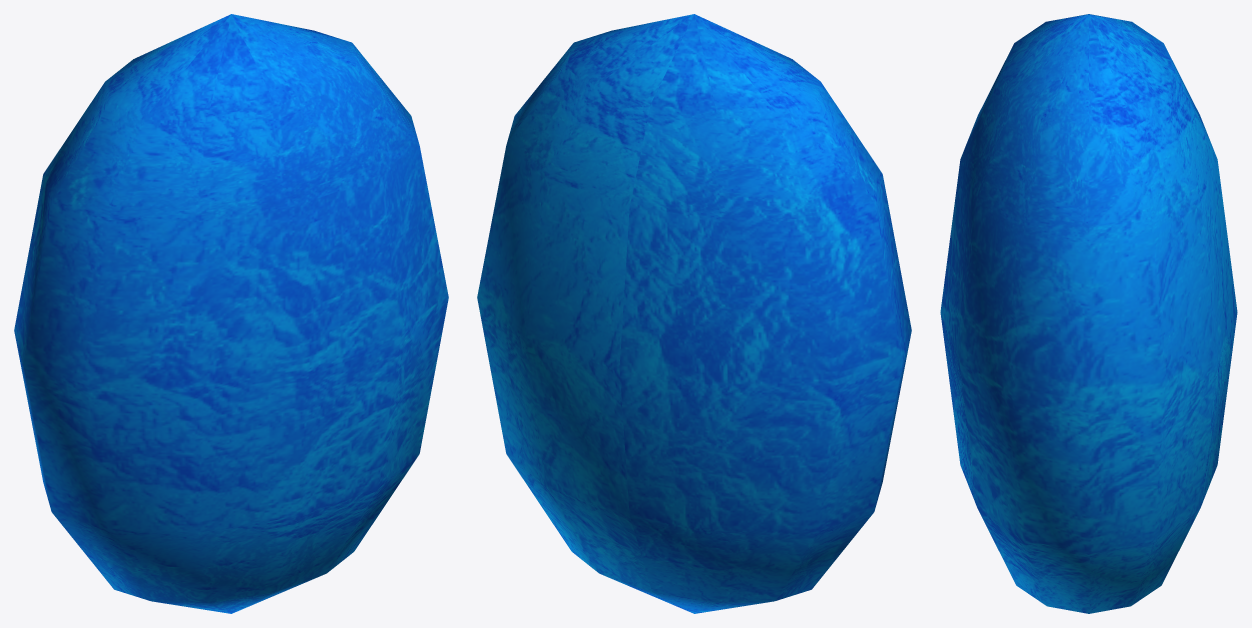
Rendered from candy_freez.FBX.
3 renders of one model, left to right at view 1: azimuth 30°, elevation 25°; view 2: azimuth 150°, elevation 25°; view 3: azimuth 270°, elevation 25°, orthographic.
Parts seen in each view (by area): view 1: candy_bomb; view 2: candy_bomb; view 3: candy_bomb.
Boxes of the visible parts, x1,y1,x2,y2 form: candy_bomb: [14, 14, 448, 613]; candy_bomb: [477, 14, 911, 613]; candy_bomb: [940, 14, 1237, 613].
Size of the model in its own units: 27.68 by 38.2 by 17.29.
